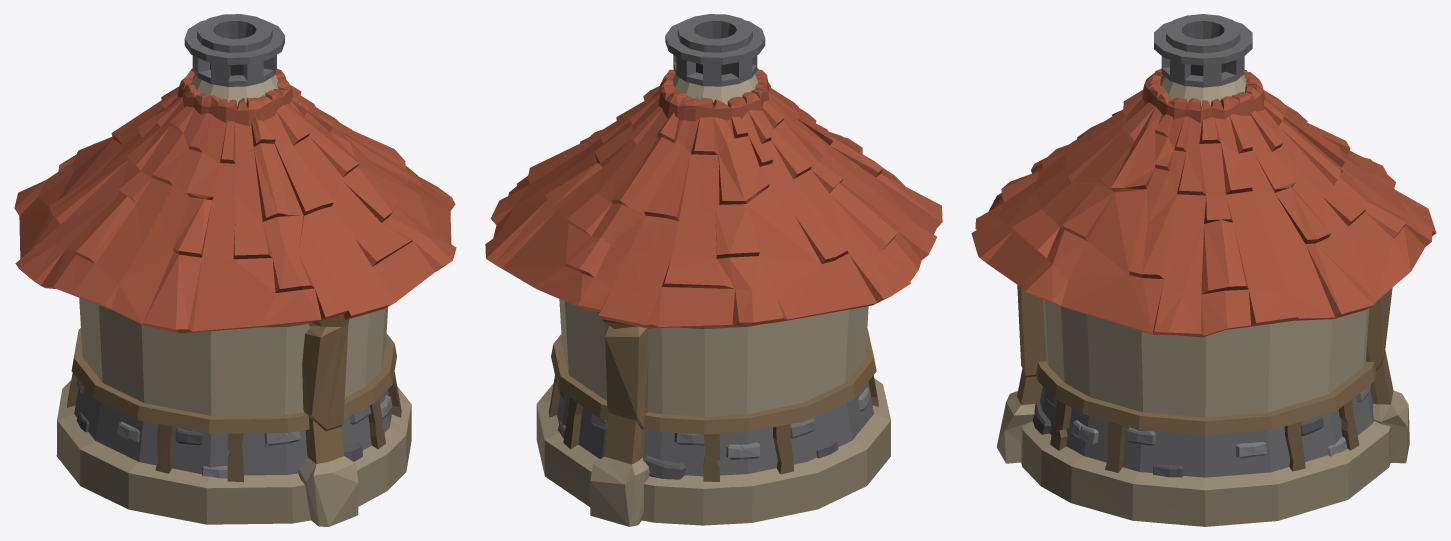
Rendered from SM_Bld_House_RoomRound_01.gltf.
The picture shows the model from 3 angles, left to right: view 1: azimuth 30°, elevation 25°; view 2: azimuth 150°, elevation 25°; view 3: azimuth 270°, elevation 25°; orthographic projection.
Visible parts, largest first — view 1: SM_Bld_House_RoomRound_01; view 2: SM_Bld_House_RoomRound_01; view 3: SM_Bld_House_RoomRound_01.
Boxes of the visible parts, bbox=[...] form: SM_Bld_House_RoomRound_01: bbox=[14, 14, 456, 526]; SM_Bld_House_RoomRound_01: bbox=[485, 14, 942, 526]; SM_Bld_House_RoomRound_01: bbox=[971, 14, 1436, 526].
Size of the model in its own units: 5.14 by 5.16 by 5.16.
1 material, 1 textured.
